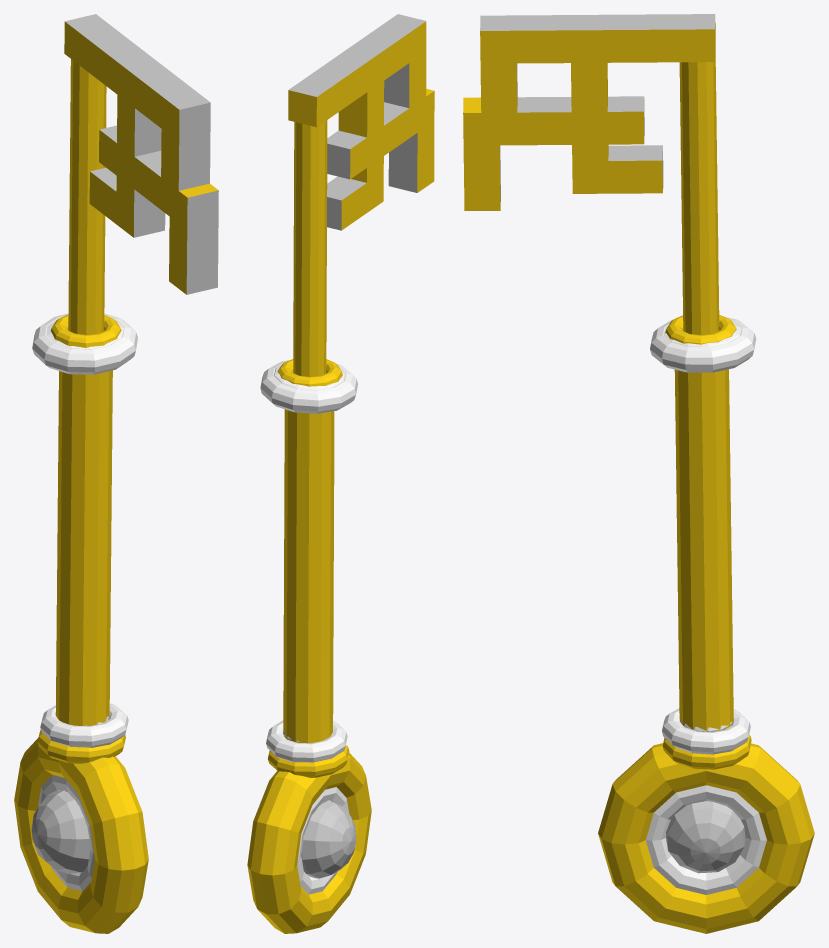
Rendered from JailKey.obj.
The picture shows the model from 3 angles, left to right: view 1: azimuth 30°, elevation 25°; view 2: azimuth 150°, elevation 25°; view 3: azimuth 270°, elevation 25°; orthographic projection. The views are drawn at different scales.
Parts seen in each view (by area): view 1: group1341584807, group1354995210, group331579697, group1771175566, group1472055373, group1091550283, group851474192, group623176677, group549781409, group1201248020, group1477750559, group1661659019 (+8 smaller); view 2: group1341584807, group1354995210, group331579697, group1091550283, group1472055373, group1771175566, group851474192, group623176677, group549781409, group1201248020, group402304295, group374829610 (+8 smaller); view 3: group1354995210, group1341584807, group331579697, group1140152002, group1771175566, group1472055373, group1091550283, group851474192, group623176677, group549781409, group385145457, group402304295 (+8 smaller).
Part boxes in pixels (x1,y1,x2,y2): group1341584807: (55,370,112,725); group1354995210: (14,737,148,933); group331579697: (68,59,106,334); group1771175566: (126,61,210,142); group1472055373: (116,95,165,237); group1091550283: (31,790,90,873); group851474192: (73,27,157,100); group623176677: (32,313,137,374); group549781409: (160,129,210,216); group1201248020: (40,703,128,747); group1477750559: (169,183,218,229); group1661659019: (169,217,218,262); group1341584807: (283,409,334,743); group1354995210: (247,752,371,933); group331579697: (293,120,327,376); group1091550283: (301,800,356,878); group1472055373: (338,81,384,212); group1771175566: (348,14,426,85); group851474192: (305,49,375,120); group623176677: (260,360,357,413); group549781409: (384,51,426,138); group1201248020: (266,720,347,762); group402304295: (327,176,366,230); group374829610: (327,130,366,179); group1354995210: (598,743,814,933); group1341584807: (674,369,733,730); group331579697: (679,62,719,334); group1140152002: (646,785,766,894); group1771175566: (480,15,588,63); group1472055373: (571,63,608,193); group1091550283: (666,801,745,873); group851474192: (588,14,696,62); group623176677: (650,317,756,372); group549781409: (480,63,517,145); group385145457: (499,97,571,145); group402304295: (608,145,663,193).
Bounding box in the file's own units: 0.0595 × 0.5564 × 0.1946.
